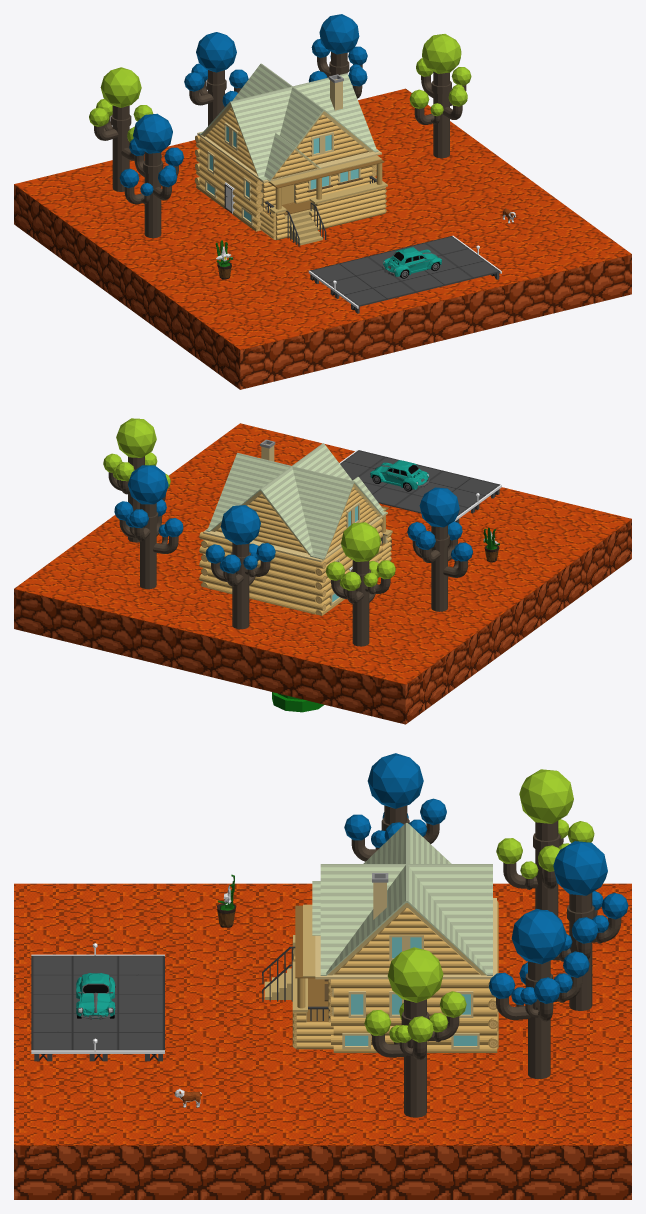
3 renders of one model, top to bottom at view 1: azimuth 30°, elevation 25°; view 2: azimuth 150°, elevation 25°; view 3: azimuth 270°, elevation 25°, orthographic. The views are drawn at different scales.
Parts seen in each view (by area): view 1: Cube.001, Cube.1516, VEHICLES_VOLKSWAGEN; view 2: Cube.001, Cube.1516, VEHICLES_VOLKSWAGEN, UNDERGROUND_PIPES; view 3: Cube.001, Cube.1516, VEHICLES_VOLKSWAGEN.
Boxes of the visible parts, <box> form: Cube.001: <box>14,14,631,389</box>; Cube.1516: <box>195,63,387,246</box>; VEHICLES_VOLKSWAGEN: <box>382,247,442,278</box>; Cube.001: <box>14,418,631,724</box>; Cube.1516: <box>199,439,392,615</box>; VEHICLES_VOLKSWAGEN: <box>370,460,429,491</box>; UNDERGROUND_PIPES: <box>272,692,324,712</box>; Cube.001: <box>14,753,631,1199</box>; Cube.1516: <box>262,823,498,1052</box>; VEHICLES_VOLKSWAGEN: <box>76,973,115,1019</box>.
Size of the model in its own units: 4000 by 2247 by 4000.
40 materials, 5 textured.
